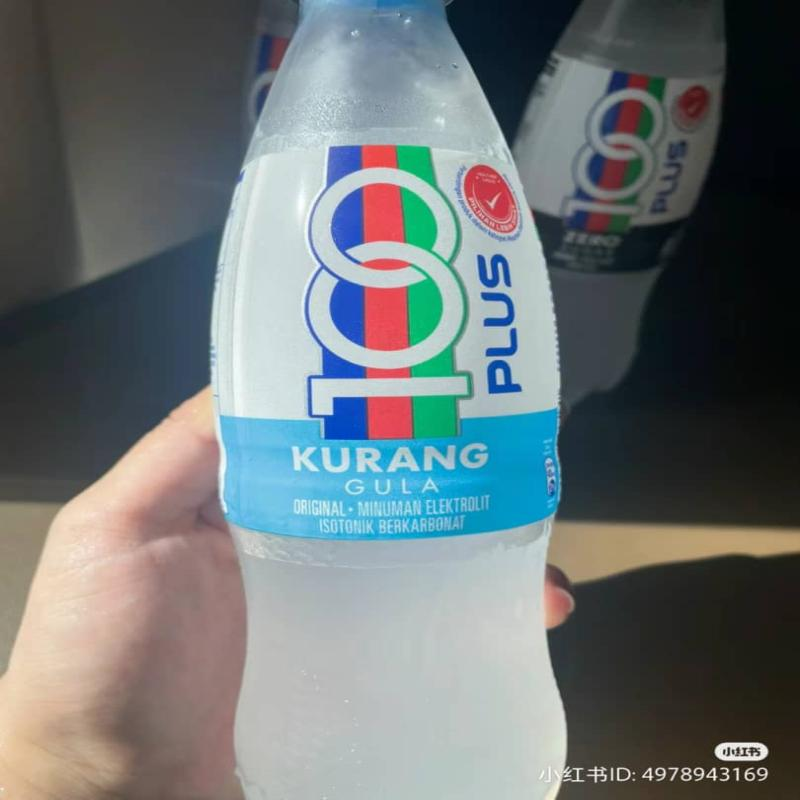botella: (219, 0, 576, 800), (515, 0, 720, 401)
